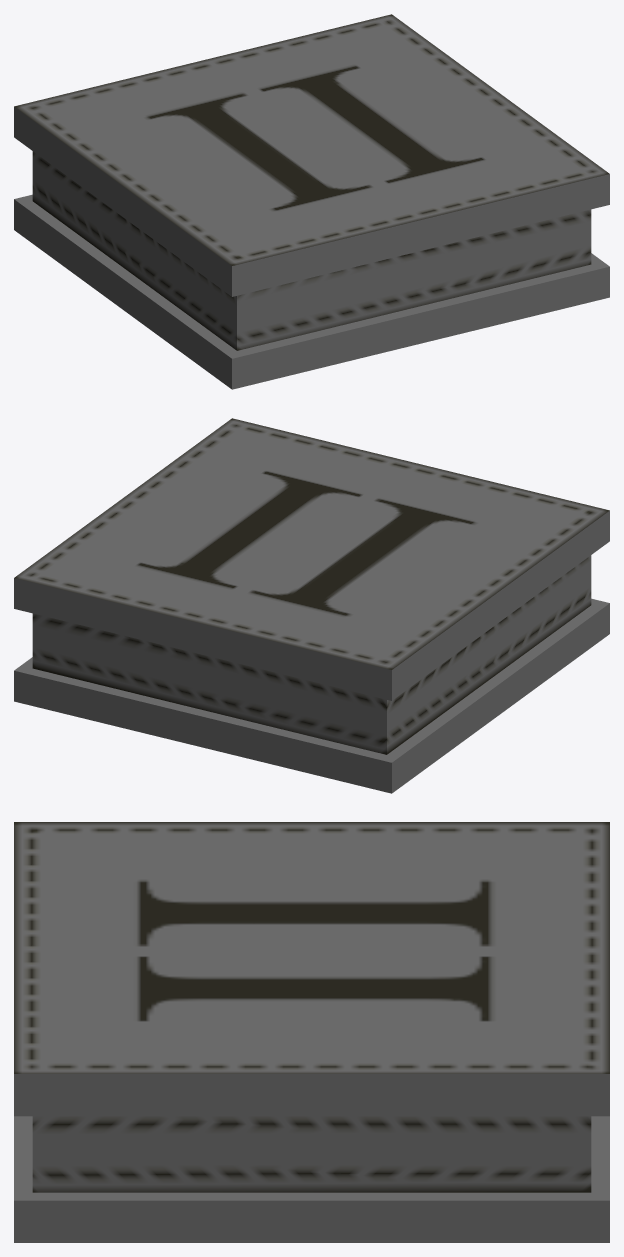
The model's file is Platform_2.fbx.
The picture shows the model from 3 angles, top to bottom: view 1: azimuth 30°, elevation 25°; view 2: azimuth 150°, elevation 25°; view 3: azimuth 270°, elevation 25°; orthographic projection. The views are drawn at different scales.
Visible parts, largest first — view 1: Platform_2; view 2: Platform_2; view 3: Platform_2.
Part boxes in pixels (x1,y1,x2,y2): Platform_2: (14, 14, 609, 389); Platform_2: (14, 418, 609, 793); Platform_2: (14, 822, 609, 1242).
Size of the model in its own units: 320 by 100 by 320.
